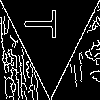T: (25, 8, 64, 39)
